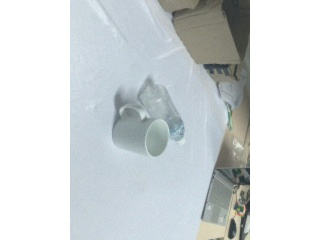bottle: (137, 78, 185, 145)
box: (173, 1, 250, 64)
cup: (112, 103, 170, 158)
